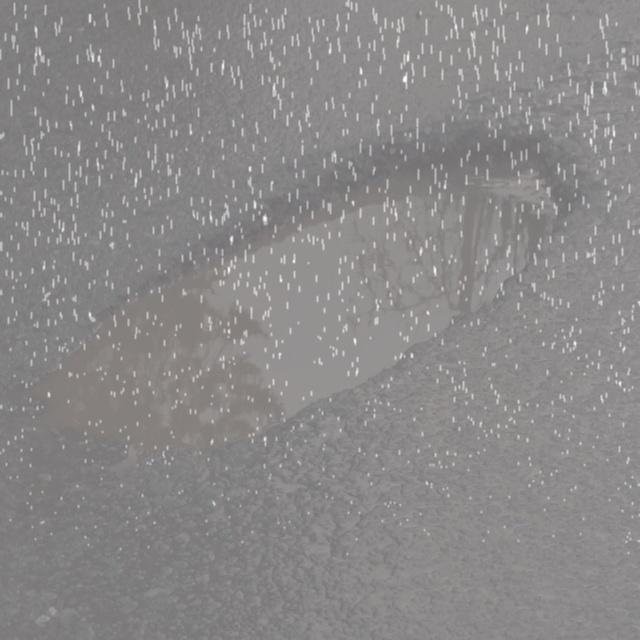Pothole: (0, 113, 601, 519)
